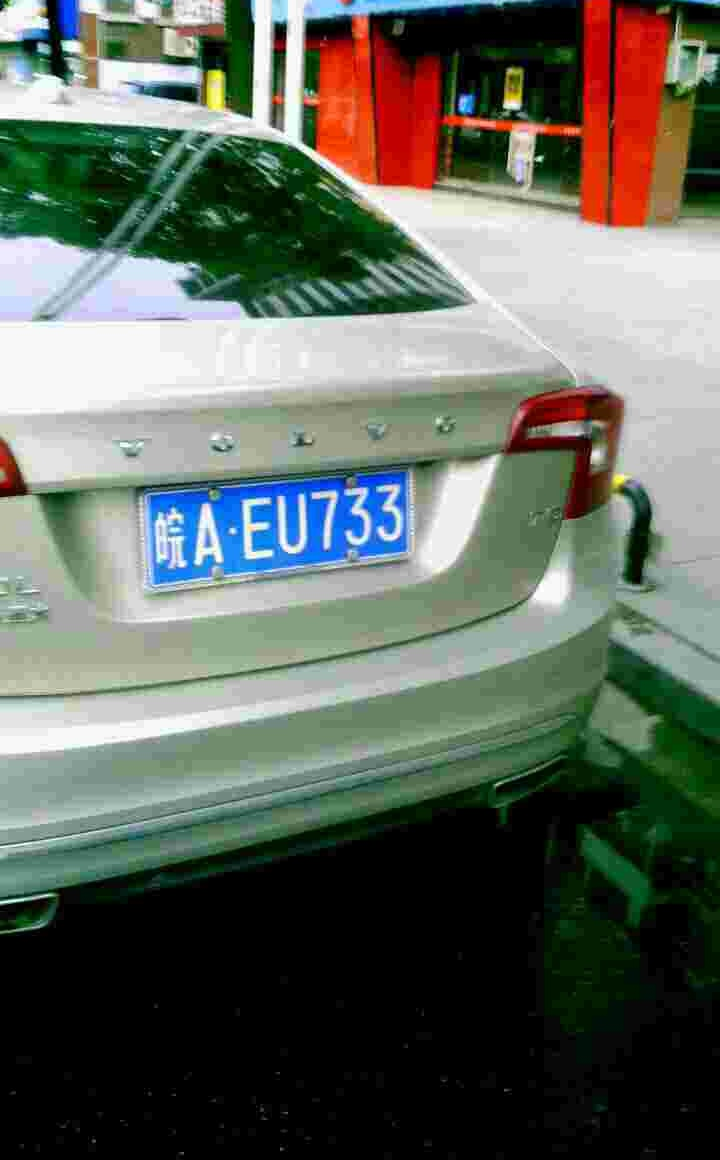car: (129, 486, 439, 570)
